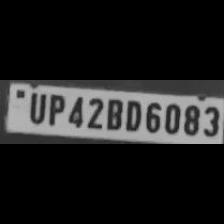0: (161, 101, 181, 135)
2: (84, 94, 104, 130)
3: (200, 102, 220, 138)
4: (64, 93, 84, 127)
6: (142, 99, 160, 134)
8: (180, 102, 200, 136)
B: (103, 96, 123, 132)
D: (122, 97, 142, 132)
P: (44, 90, 64, 126)
U: (24, 90, 46, 124)
